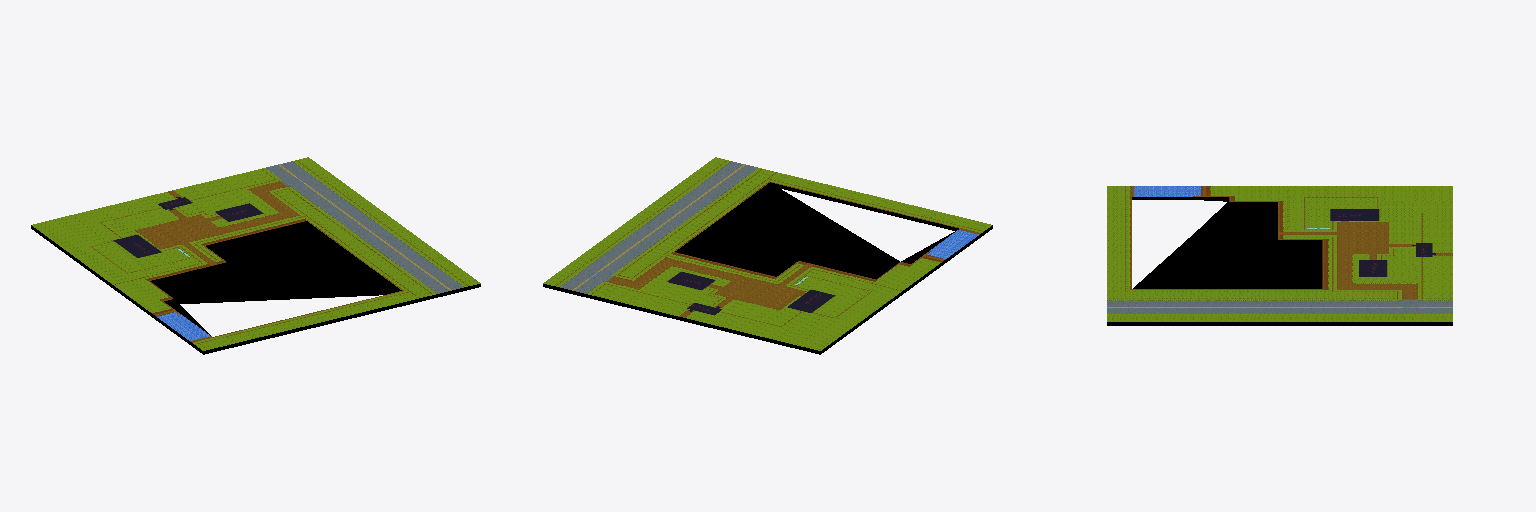
The picture shows the model from 3 angles: view 1: azimuth 30°, elevation 25°; view 2: azimuth 150°, elevation 25°; view 3: azimuth 270°, elevation 25°; orthographic projection.
Visible parts, largest first — view 1: Cube; view 2: Cube; view 3: Cube.
Boxes of the visible parts, x1=… form: Cube: x1=31, y1=157, x2=480, y2=354; Cube: x1=543, y1=157, x2=992, y2=354; Cube: x1=1107, y1=186, x2=1452, y2=325.
Size of the model in its own units: 166 by 2.1 by 178.
1 materials, 1 textured.